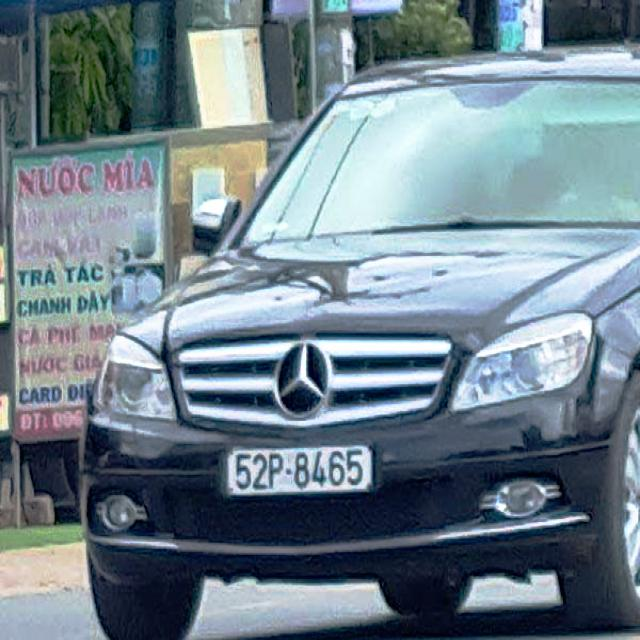license_plate: (227, 444, 374, 499)
